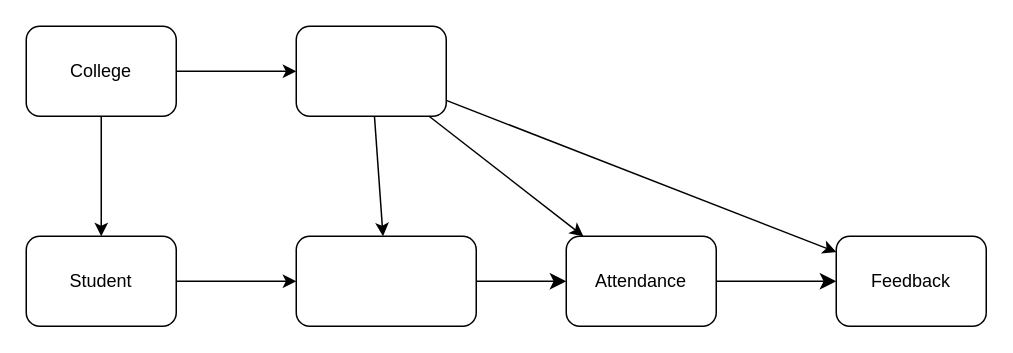
Image size: 1013x353. Some labels were removed from this diagram. The shapes that lost their labels are listed below. From the top down, each one's centre as x and y in pixels, then its label:
At point 370,70: "Event".
At point 385,280: "Registration".
